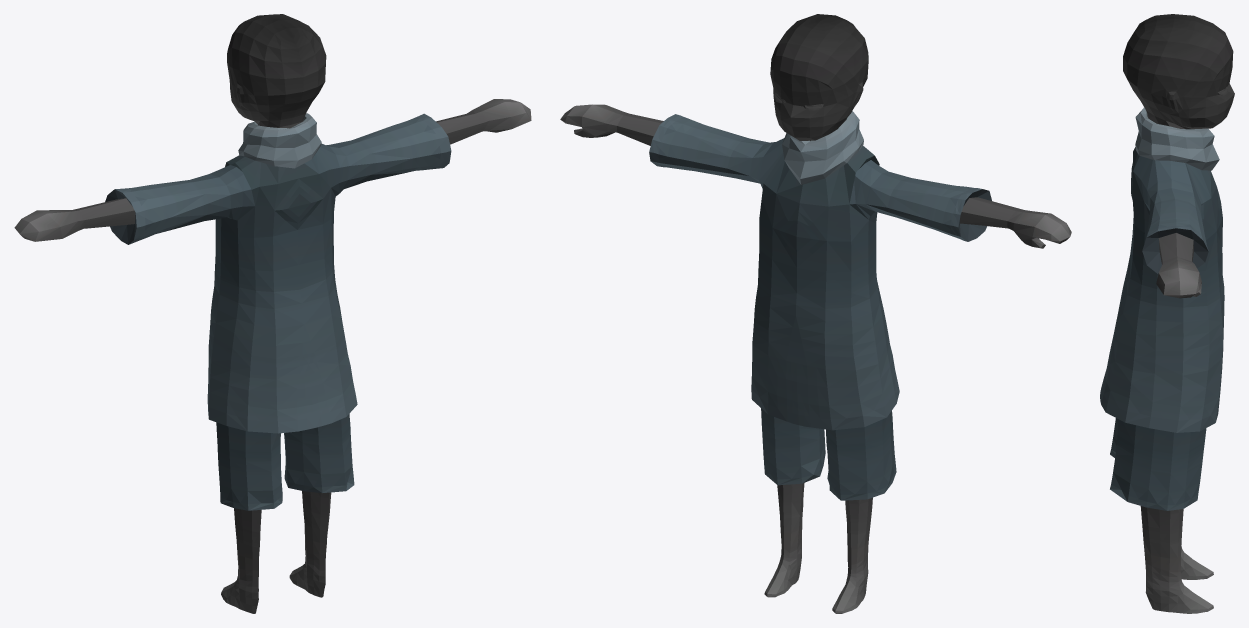
The model's file is NPC_KidLongPantsBody.glb.
3 renders of one model, left to right at view 1: azimuth 30°, elevation 25°; view 2: azimuth 150°, elevation 25°; view 3: azimuth 270°, elevation 25°, orthographic.
Visible parts, largest first — view 1: NPC_KidLongPantsBody; view 2: NPC_KidLongPantsBody; view 3: NPC_KidLongPantsBody.
Boxes of the visible parts, x1,y1,x2,y2 form: NPC_KidLongPantsBody: (14,14,531,613); NPC_KidLongPantsBody: (560,14,1071,613); NPC_KidLongPantsBody: (1100,14,1234,613).
Bounding box in the file's own units: 13.83 × 14.94 × 3.18.
Materials: 1 (1 with a texture image).
